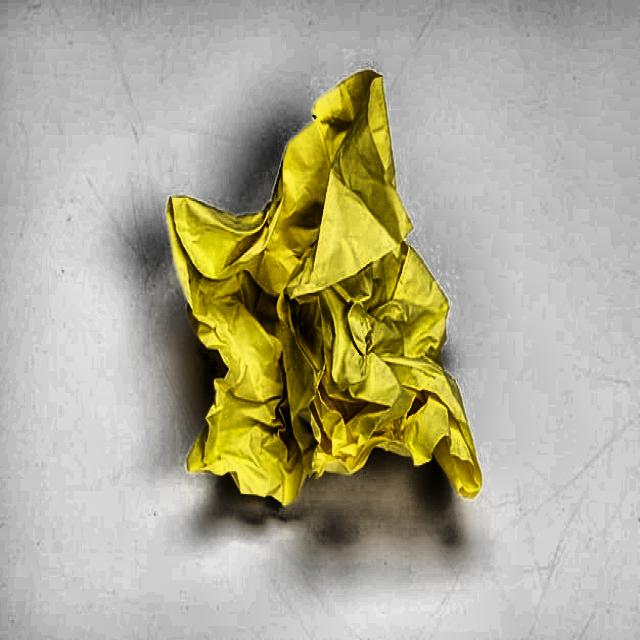Paper: (114, 48, 508, 546)
